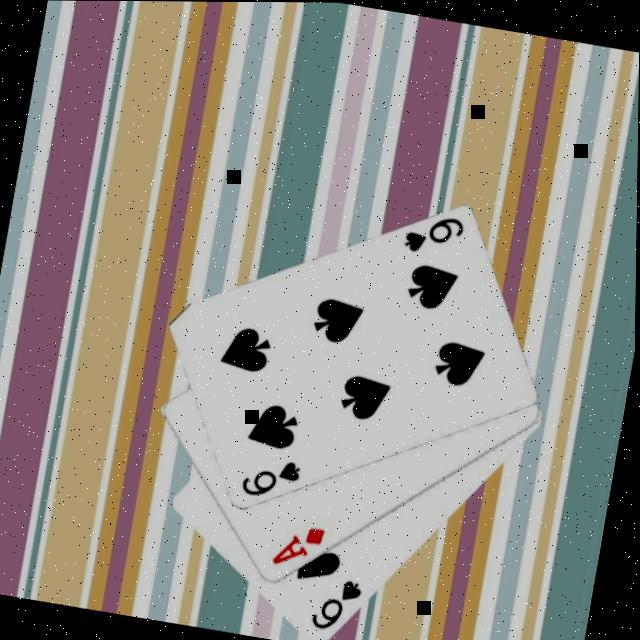6S: (305, 569, 367, 636), (398, 204, 468, 260), (236, 448, 305, 504)
AD: (267, 516, 329, 572)
